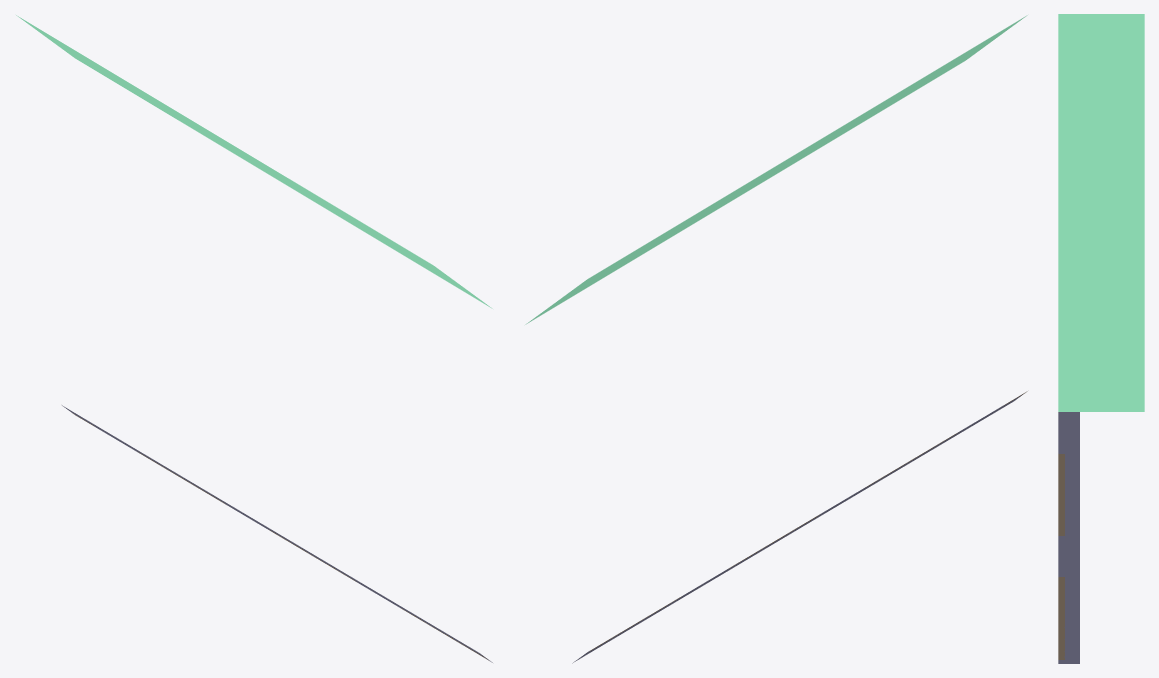
3 renders of one model, left to right at view 1: azimuth 30°, elevation 25°; view 2: azimuth 150°, elevation 25°; view 3: azimuth 270°, elevation 25°, orthographic. The views are drawn at different scales.
Size of the model in its own units: 1 by 1.61 by 0.25.
Materials: 1 (1 with a texture image).
